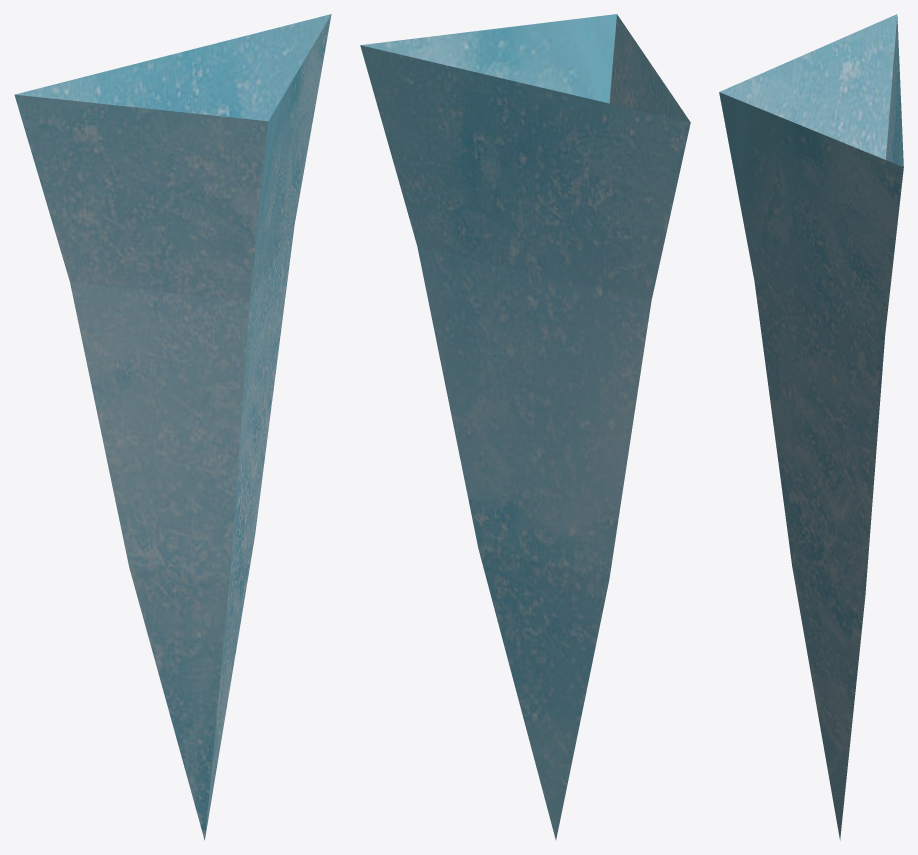
The model's file is estalactite.fbx.
3 views of the same model, side by side, from view 1: azimuth 30°, elevation 25°; view 2: azimuth 150°, elevation 25°; view 3: azimuth 270°, elevation 25° (orthographic). The views are drawn at different scales.
Visible parts, largest first — view 1: Icosphere.008; view 2: Icosphere.008; view 3: Icosphere.008.
Part boxes in pixels (x1=…): Icosphere.008: x1=14, y1=14, x2=331, y2=840; Icosphere.008: x1=360, y1=14, x2=690, y2=839; Icosphere.008: x1=719, y1=14, x2=903, y2=840.
Bounding box in the file's own units: 686 × 1564 × 349.
